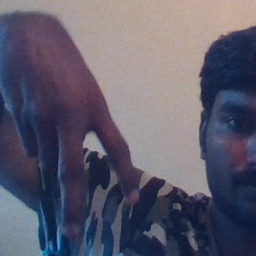Y: (30, 81, 151, 245)
